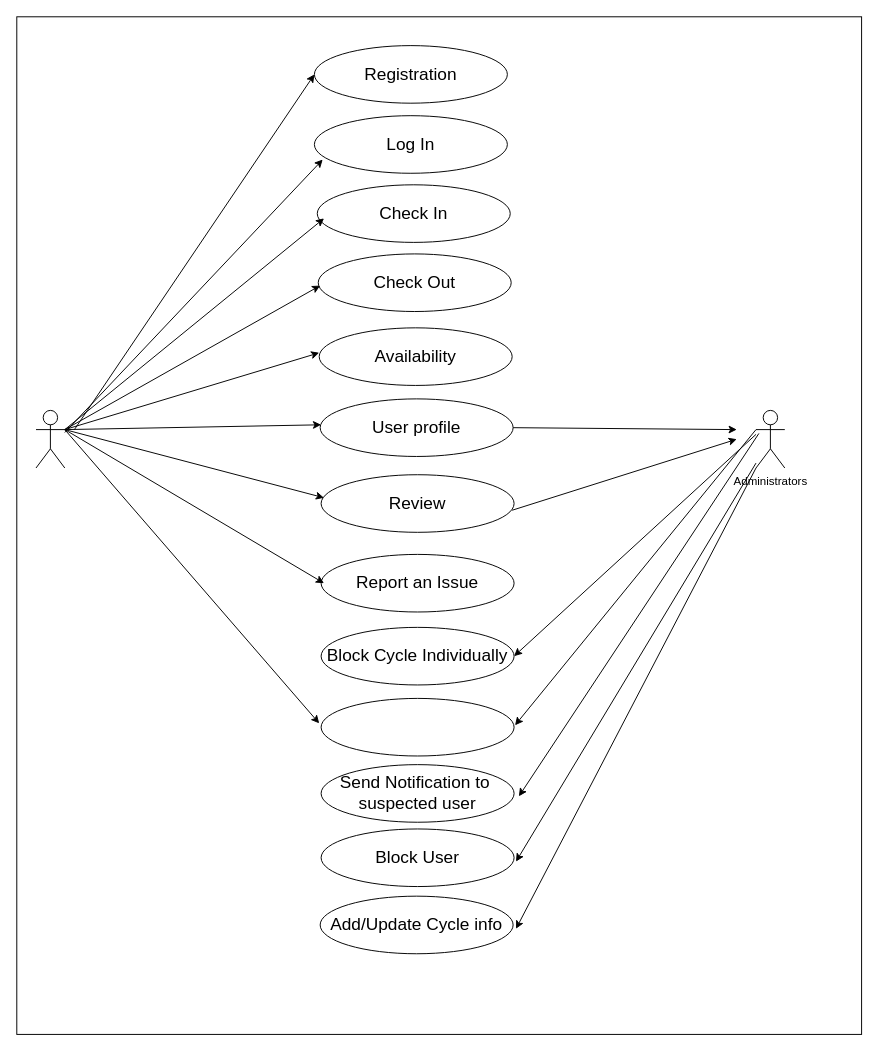
Image size: 878x1051. Some labels were removed from this diagram. Each missing label, with the centre of its shape:
"Safety Tips" goes at pixel 417 726.
"Users" goes at pixel 50 438.
